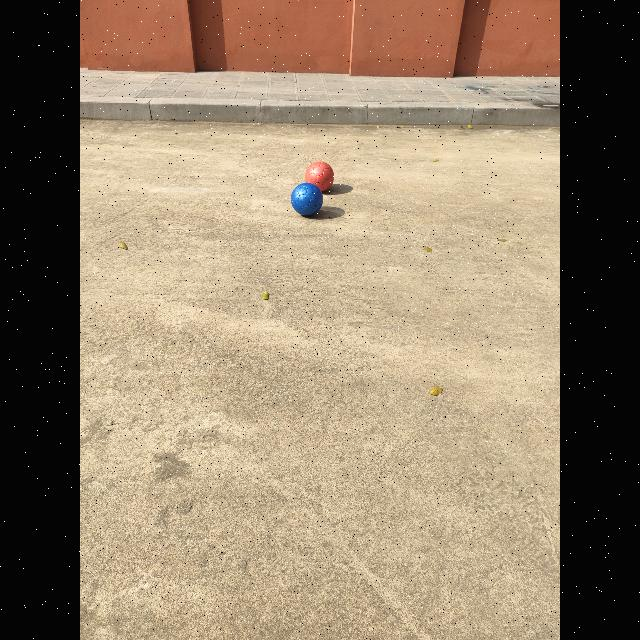B: (291, 183, 323, 217)
R: (306, 162, 335, 192)
